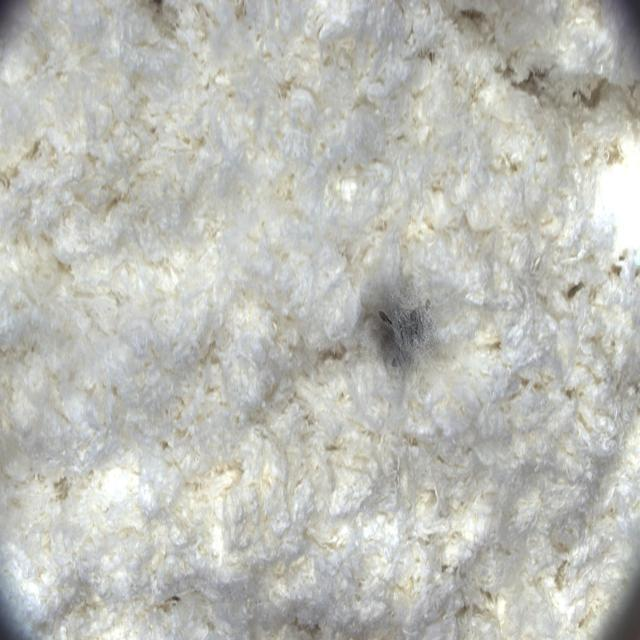dust: (305, 238, 471, 404)
